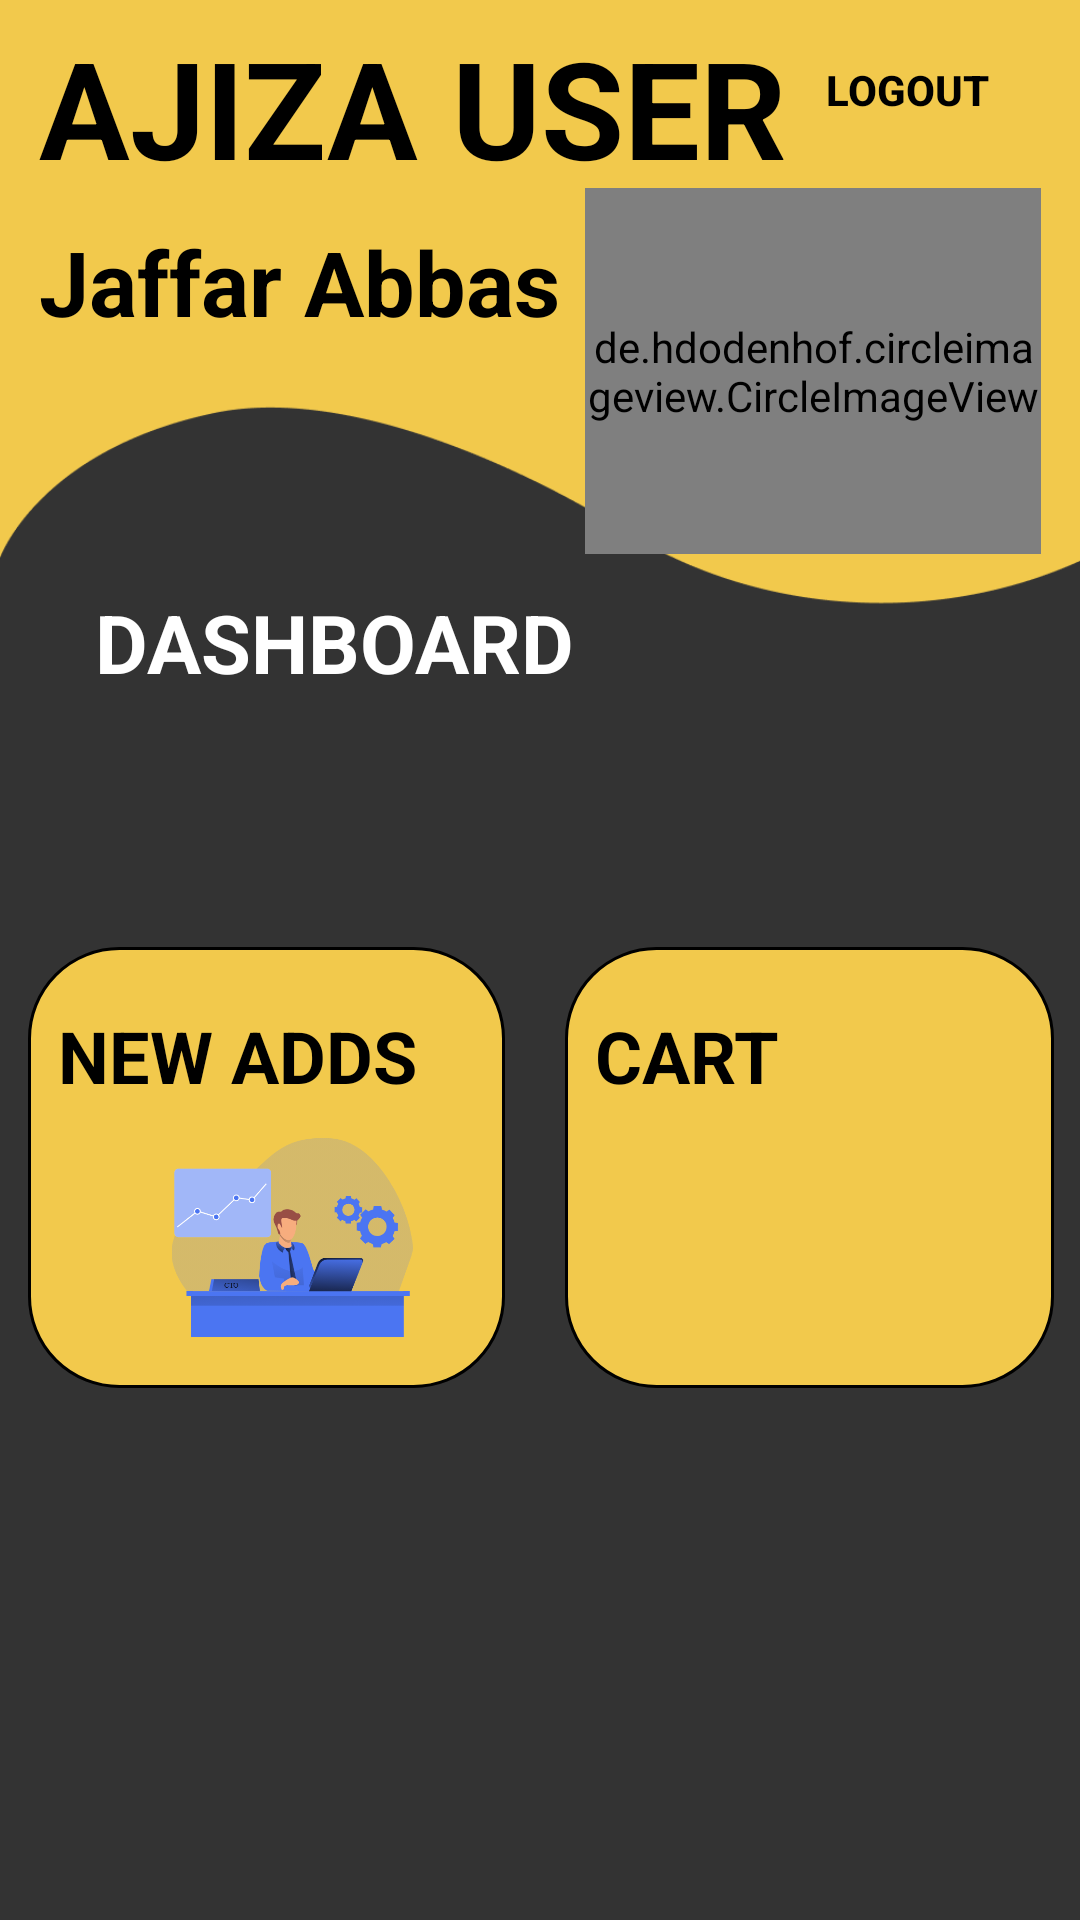

Icons on this 1080px x 1920px Android screen, each with the point to tap as [x,y]:
cto: [292,1237]
